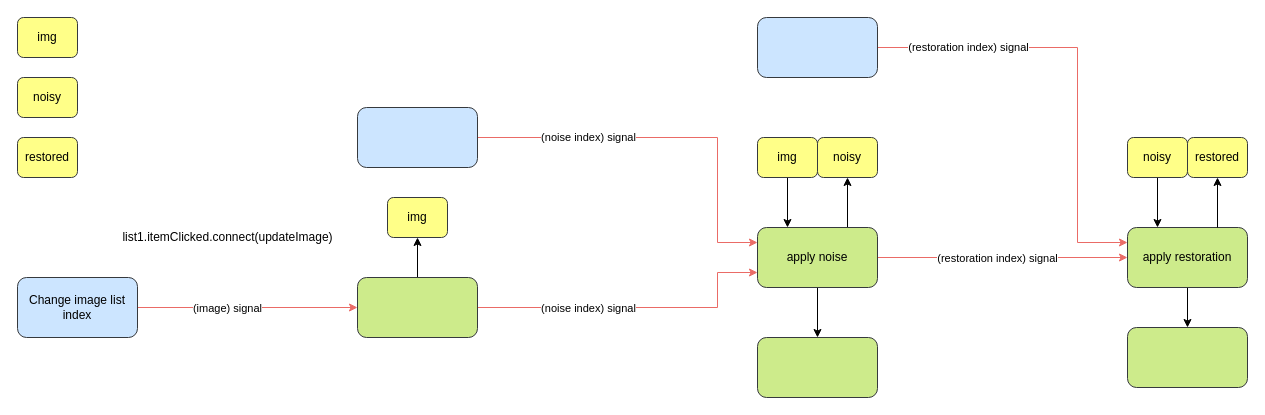
Some shapes in this 1265 by 415 pixel diagram are drawn without their labels. The shapes that lost their labels are listed below. From the top down, each one's centre as x and y in pixels, then its label:
(x=817, y=47): change restoration index
(x=417, y=137): Change noise index
(x=417, y=307): Update Image
(x=817, y=367): update noisy
(x=1187, y=357): update restored
